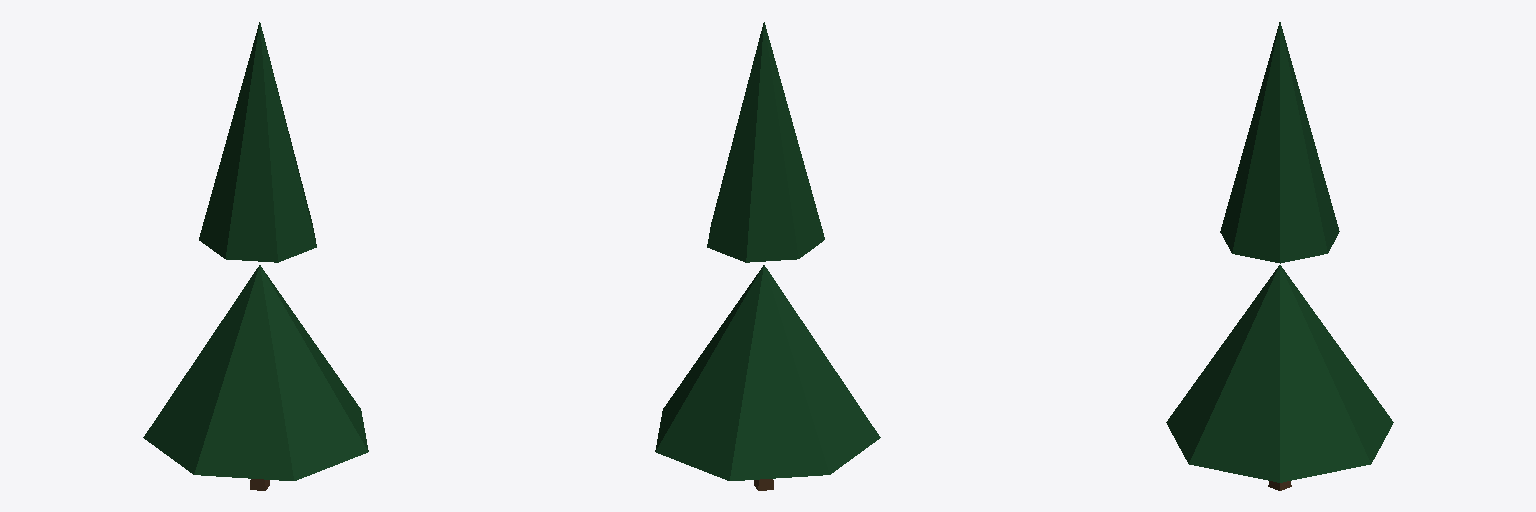
robot.urdf — pine:
<?xml version="1.0" encoding="utf-8"?>
<!-- Generated by tools/generate_assets.py -->
<robot name="pine">
  <link name="base_link">
    <inertial>
      <mass value="0" />
      <inertia ixx="0" ixy="0" ixz="0" iyy="0" iyz="0" izz="0" />
    </inertial>
    <visual name="part_0">
      <geometry><mesh filename="meshes/pine_v0.obj" /></geometry>
      <material name="pine_0"><color rgba="0.33 0.24 0.16 1" /></material>
    </visual>
    <visual name="part_1">
      <geometry><mesh filename="meshes/pine_v1.obj" /></geometry>
      <material name="pine_1"><color rgba="0.12 0.29 0.17 1" /></material>
    </visual>
    <visual name="part_2">
      <geometry><mesh filename="meshes/pine_v2.obj" /></geometry>
      <material name="pine_2"><color rgba="0.16 0.35 0.2 1" /></material>
    </visual>
    <collision name="hull_0">
      <geometry><mesh filename="meshes/pine_c0.obj" /></geometry>
    </collision>
    <collision name="hull_1">
      <geometry><mesh filename="meshes/pine_c1.obj" /></geometry>
    </collision>
    <collision name="hull_2">
      <geometry><mesh filename="meshes/pine_c2.obj" /></geometry>
    </collision>
    <collision name="hull_3">
      <geometry><mesh filename="meshes/pine_c3.obj" /></geometry>
    </collision>
  </link>
</robot>

--- Render facts (derived) ---
Views: 3 orthographic renders of the robot side by side, from view 1: azimuth 30°, elevation 25°; view 2: azimuth 150°, elevation 25°; view 3: azimuth 270°, elevation 25°.
Robot: pine — 1 links, 0 joints (none); root link base_link; default pose: every joint at zero.
Visible links, largest first — view 1: base_link; view 2: base_link; view 3: base_link.
Link boxes in pixels (x1=…): base_link: x1=143, y1=22, x2=368, y2=490; base_link: x1=655, y1=22, x2=880, y2=490; base_link: x1=1166, y1=22, x2=1393, y2=490.
Bounding box of the posed robot: 3.8 × 3.9 × 8.8 m (x, y, z).
2 mesh visuals loaded from 3 distinct referenced files (2 OBJ); not drawn: 1 (reference not matched to a file when rendering).
